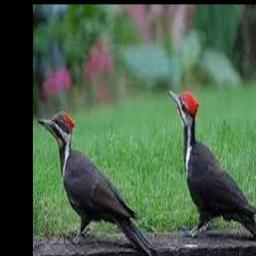Woodpecker: (37, 110, 156, 256), (167, 89, 256, 240)
